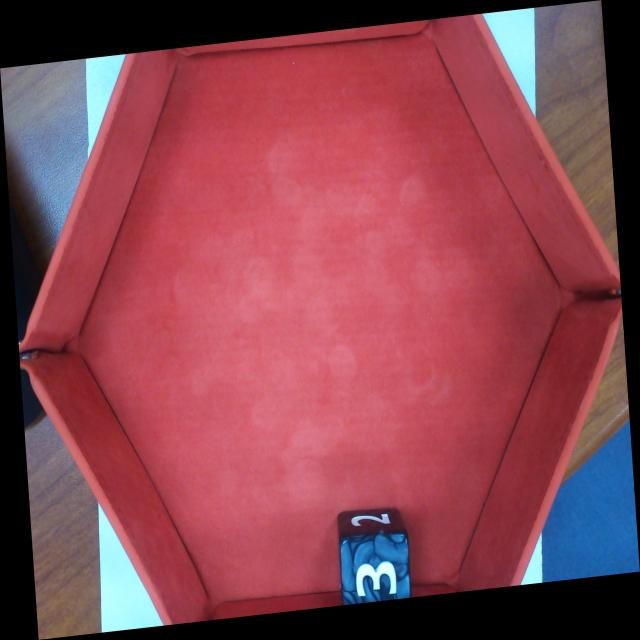dice: (338, 528, 411, 604)
